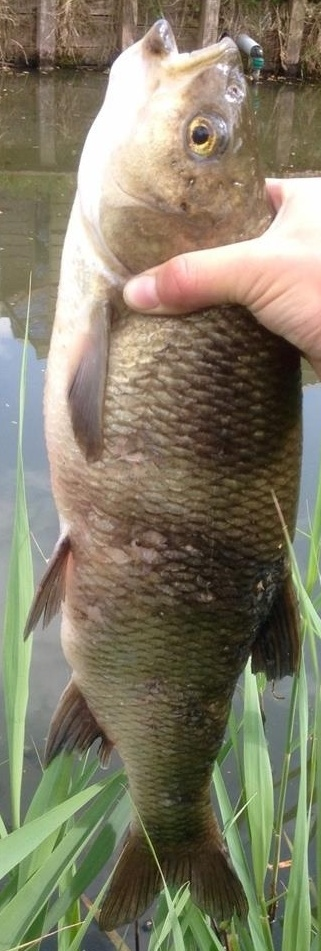Leuciscus idus: (20, 20, 301, 931)
